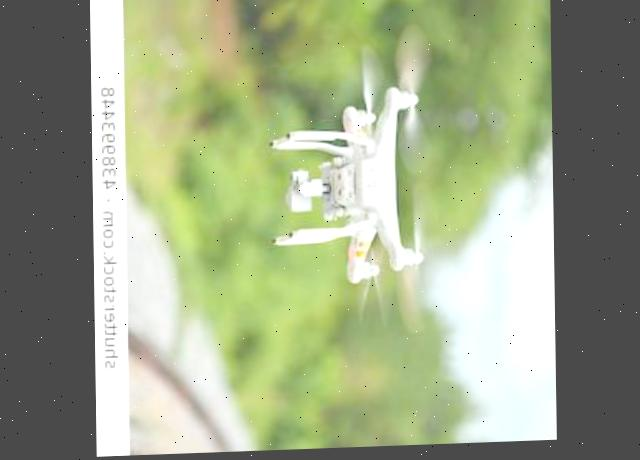drone: (265, 19, 454, 350)
